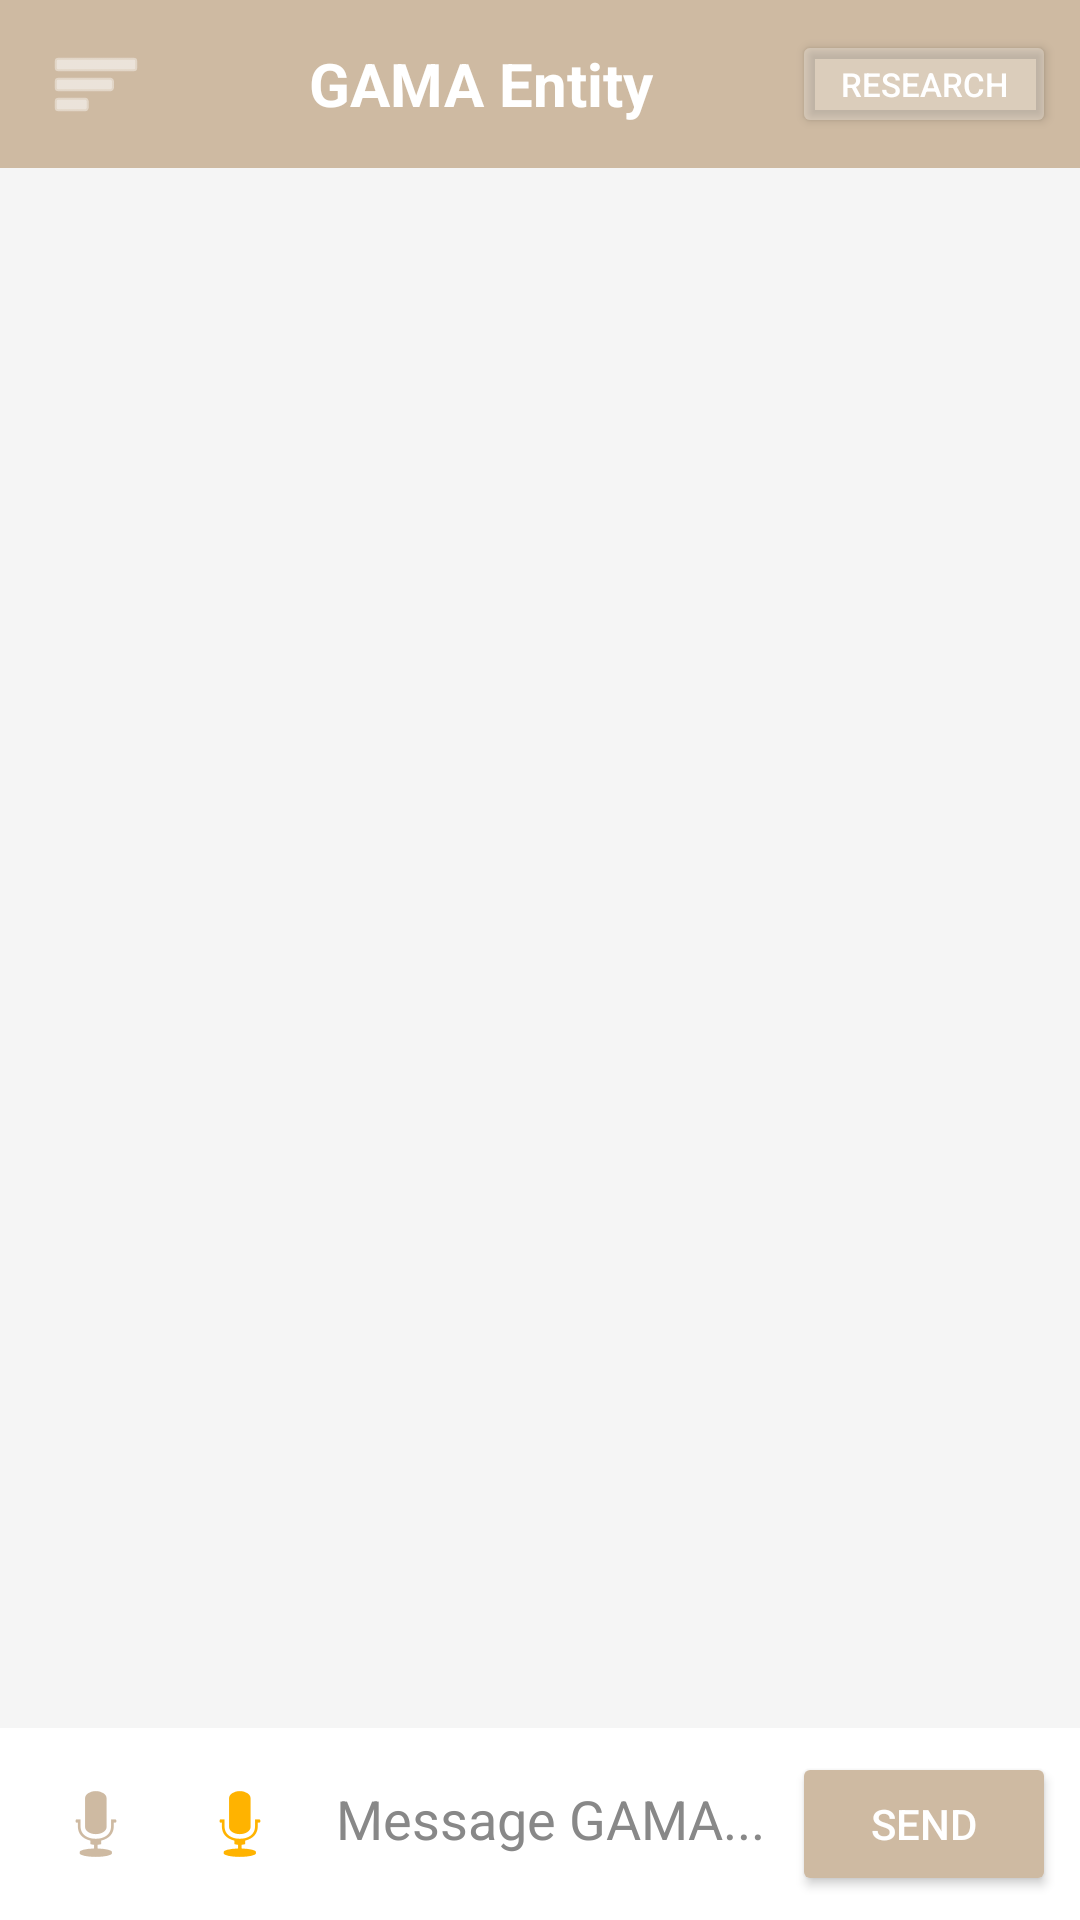

Where to tap for icons on this 1080×1920 app screen, as (x=x, y=y):
sort by size: (x=96, y=84)
speak now: (x=96, y=1824), (x=240, y=1824)
